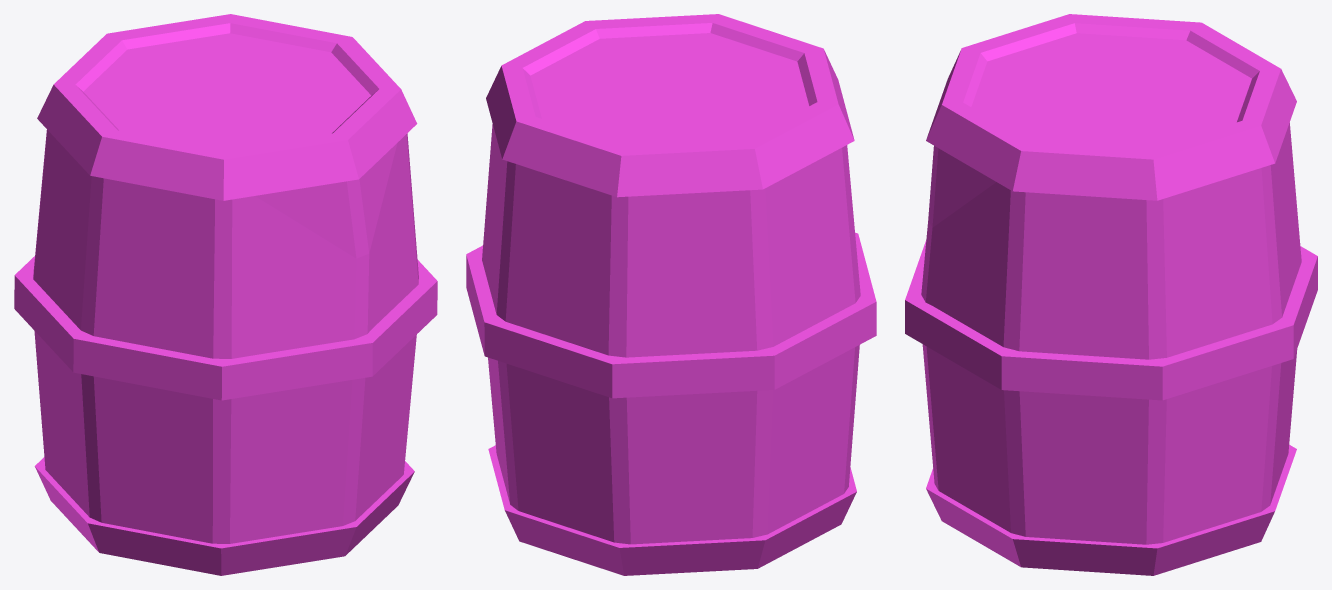
File: SM_Barrel_Small_Fantasy.fbx
The picture shows the model from 3 angles, left to right: view 1: azimuth 30°, elevation 25°; view 2: azimuth 150°, elevation 25°; view 3: azimuth 270°, elevation 25°; orthographic projection.
Visible parts, largest first — view 1: SM_Barrel_Small_Fantasy; view 2: SM_Barrel_Small_Fantasy; view 3: SM_Barrel_Small_Fantasy.
Boxes of the visible parts, x1,y1,x2,y2 form: SM_Barrel_Small_Fantasy: (14,14,437,575); SM_Barrel_Small_Fantasy: (466,14,876,575); SM_Barrel_Small_Fantasy: (905,14,1317,575).
Size of the model in its own units: 0.5391 by 0.6046 by 0.5387.
